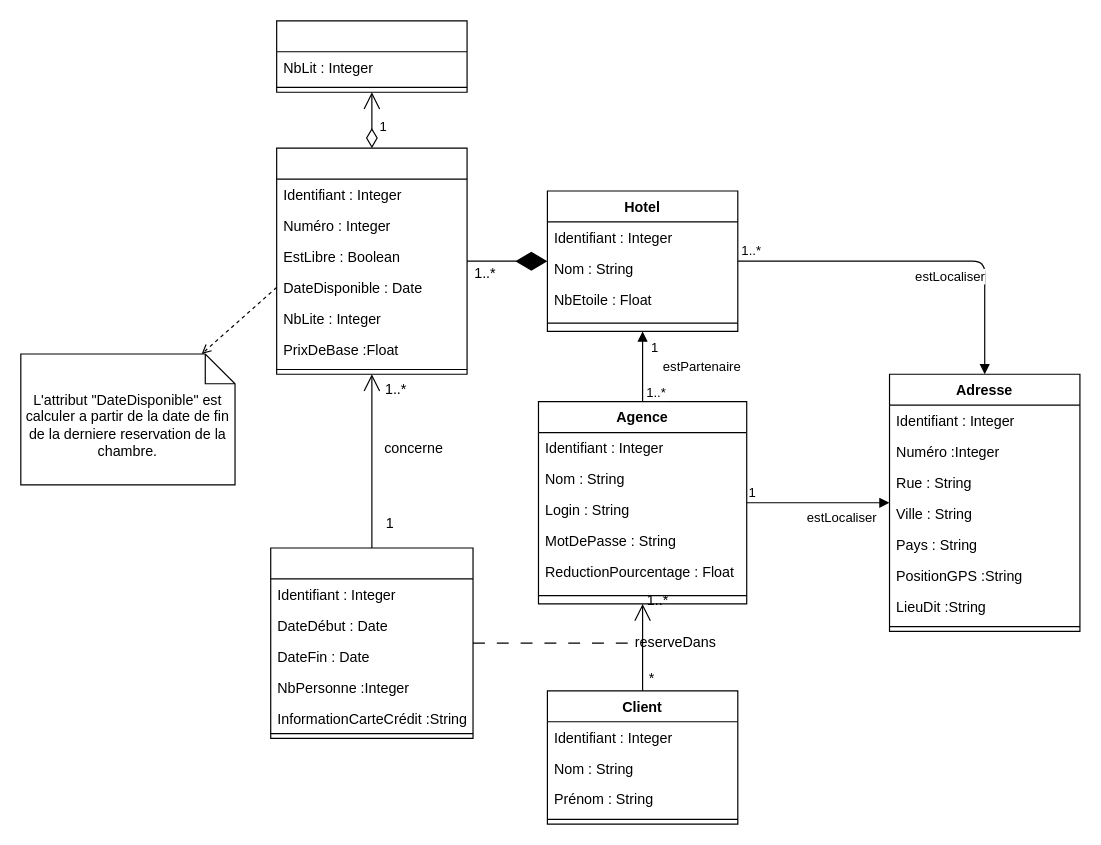
This 1101x845 diagram has some shape labels left out. The shapes that lost their labels are listed below. From the top down, each one's box as (x1, y1, x2, y2) in pixels, then its label:
(275, 20, 467, 92): TypeChambre
(275, 147, 467, 374): Chambre
(270, 547, 473, 738): Réservation
